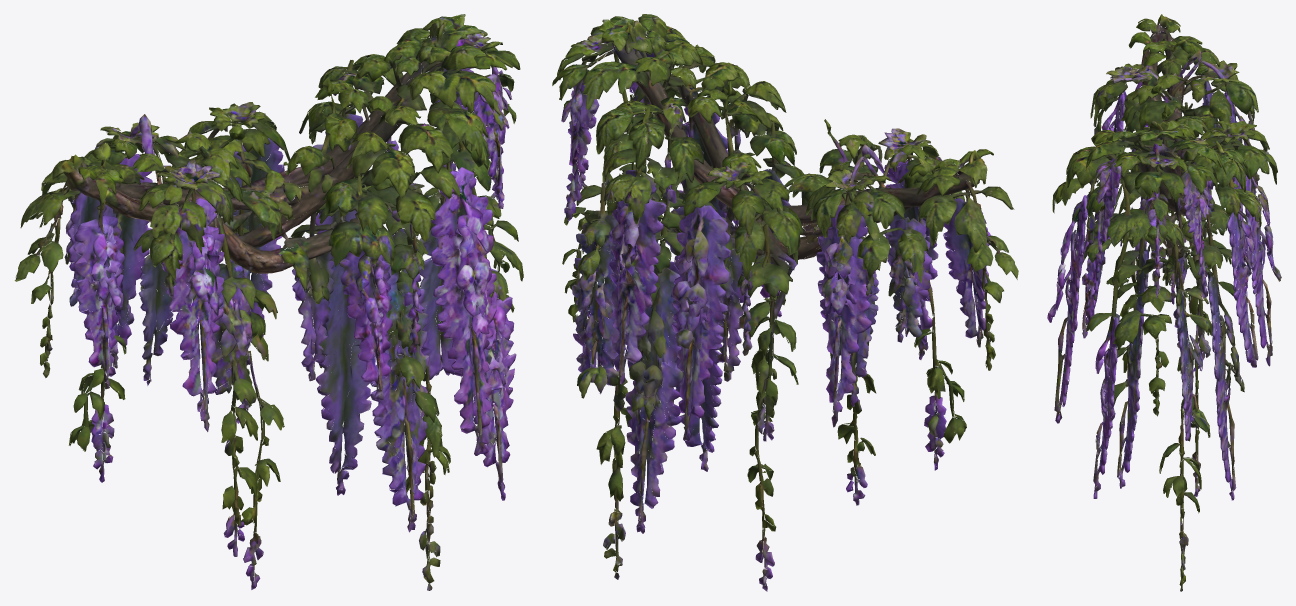
File: wisteria.glb
The picture shows the model from 3 angles, left to right: view 1: azimuth 30°, elevation 25°; view 2: azimuth 150°, elevation 25°; view 3: azimuth 270°, elevation 25°; orthographic projection. The views are drawn at different scales.
Visible parts, largest first — view 1: tripo_node_ef7be5e3-c9e9-42ee-b173-06333f0f5946; view 2: tripo_node_ef7be5e3-c9e9-42ee-b173-06333f0f5946; view 3: tripo_node_ef7be5e3-c9e9-42ee-b173-06333f0f5946.
Part boxes in pixels (bbox=[...]): tripo_node_ef7be5e3-c9e9-42ee-b173-06333f0f5946: bbox=[14, 14, 523, 590]; tripo_node_ef7be5e3-c9e9-42ee-b173-06333f0f5946: bbox=[552, 14, 1018, 591]; tripo_node_ef7be5e3-c9e9-42ee-b173-06333f0f5946: bbox=[1047, 14, 1281, 591].
Size of the model in its own units: 2.65 by 3 by 1.36.
1 material, 1 textured.
